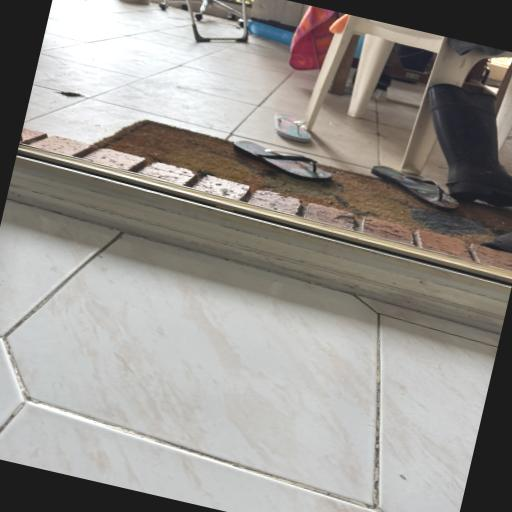step: (7, 146, 512, 334)
